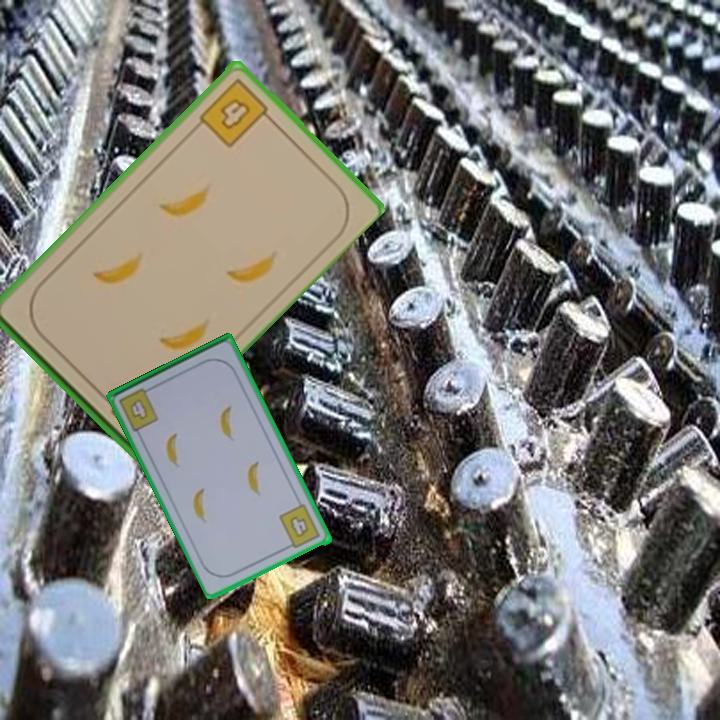4b: (195, 74, 277, 151), (275, 501, 324, 552), (127, 395, 151, 423)
